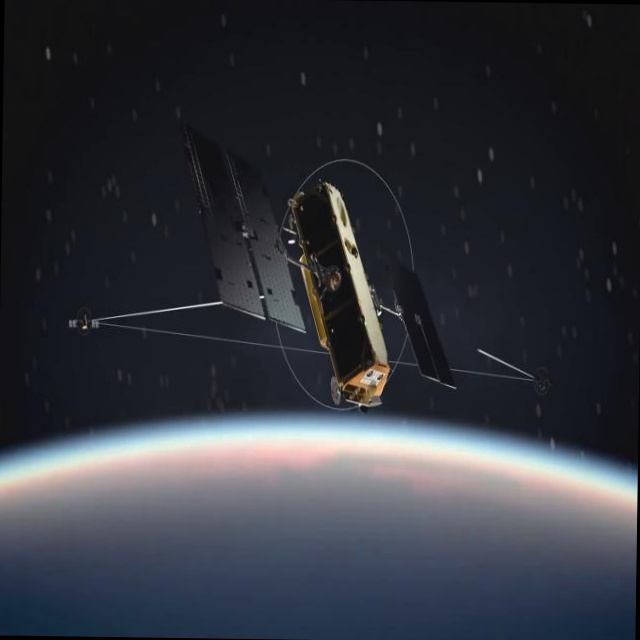medium_debris: (52, 123, 561, 453)
